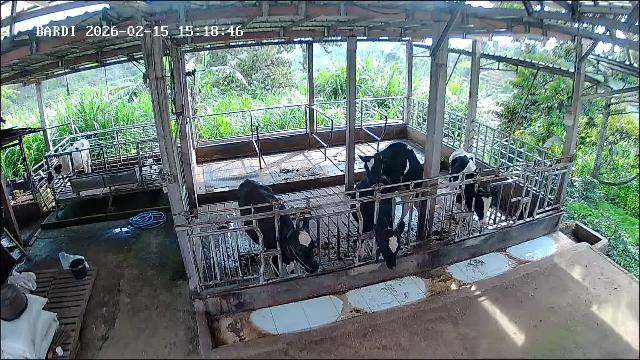mounting: (360, 140, 425, 227)
